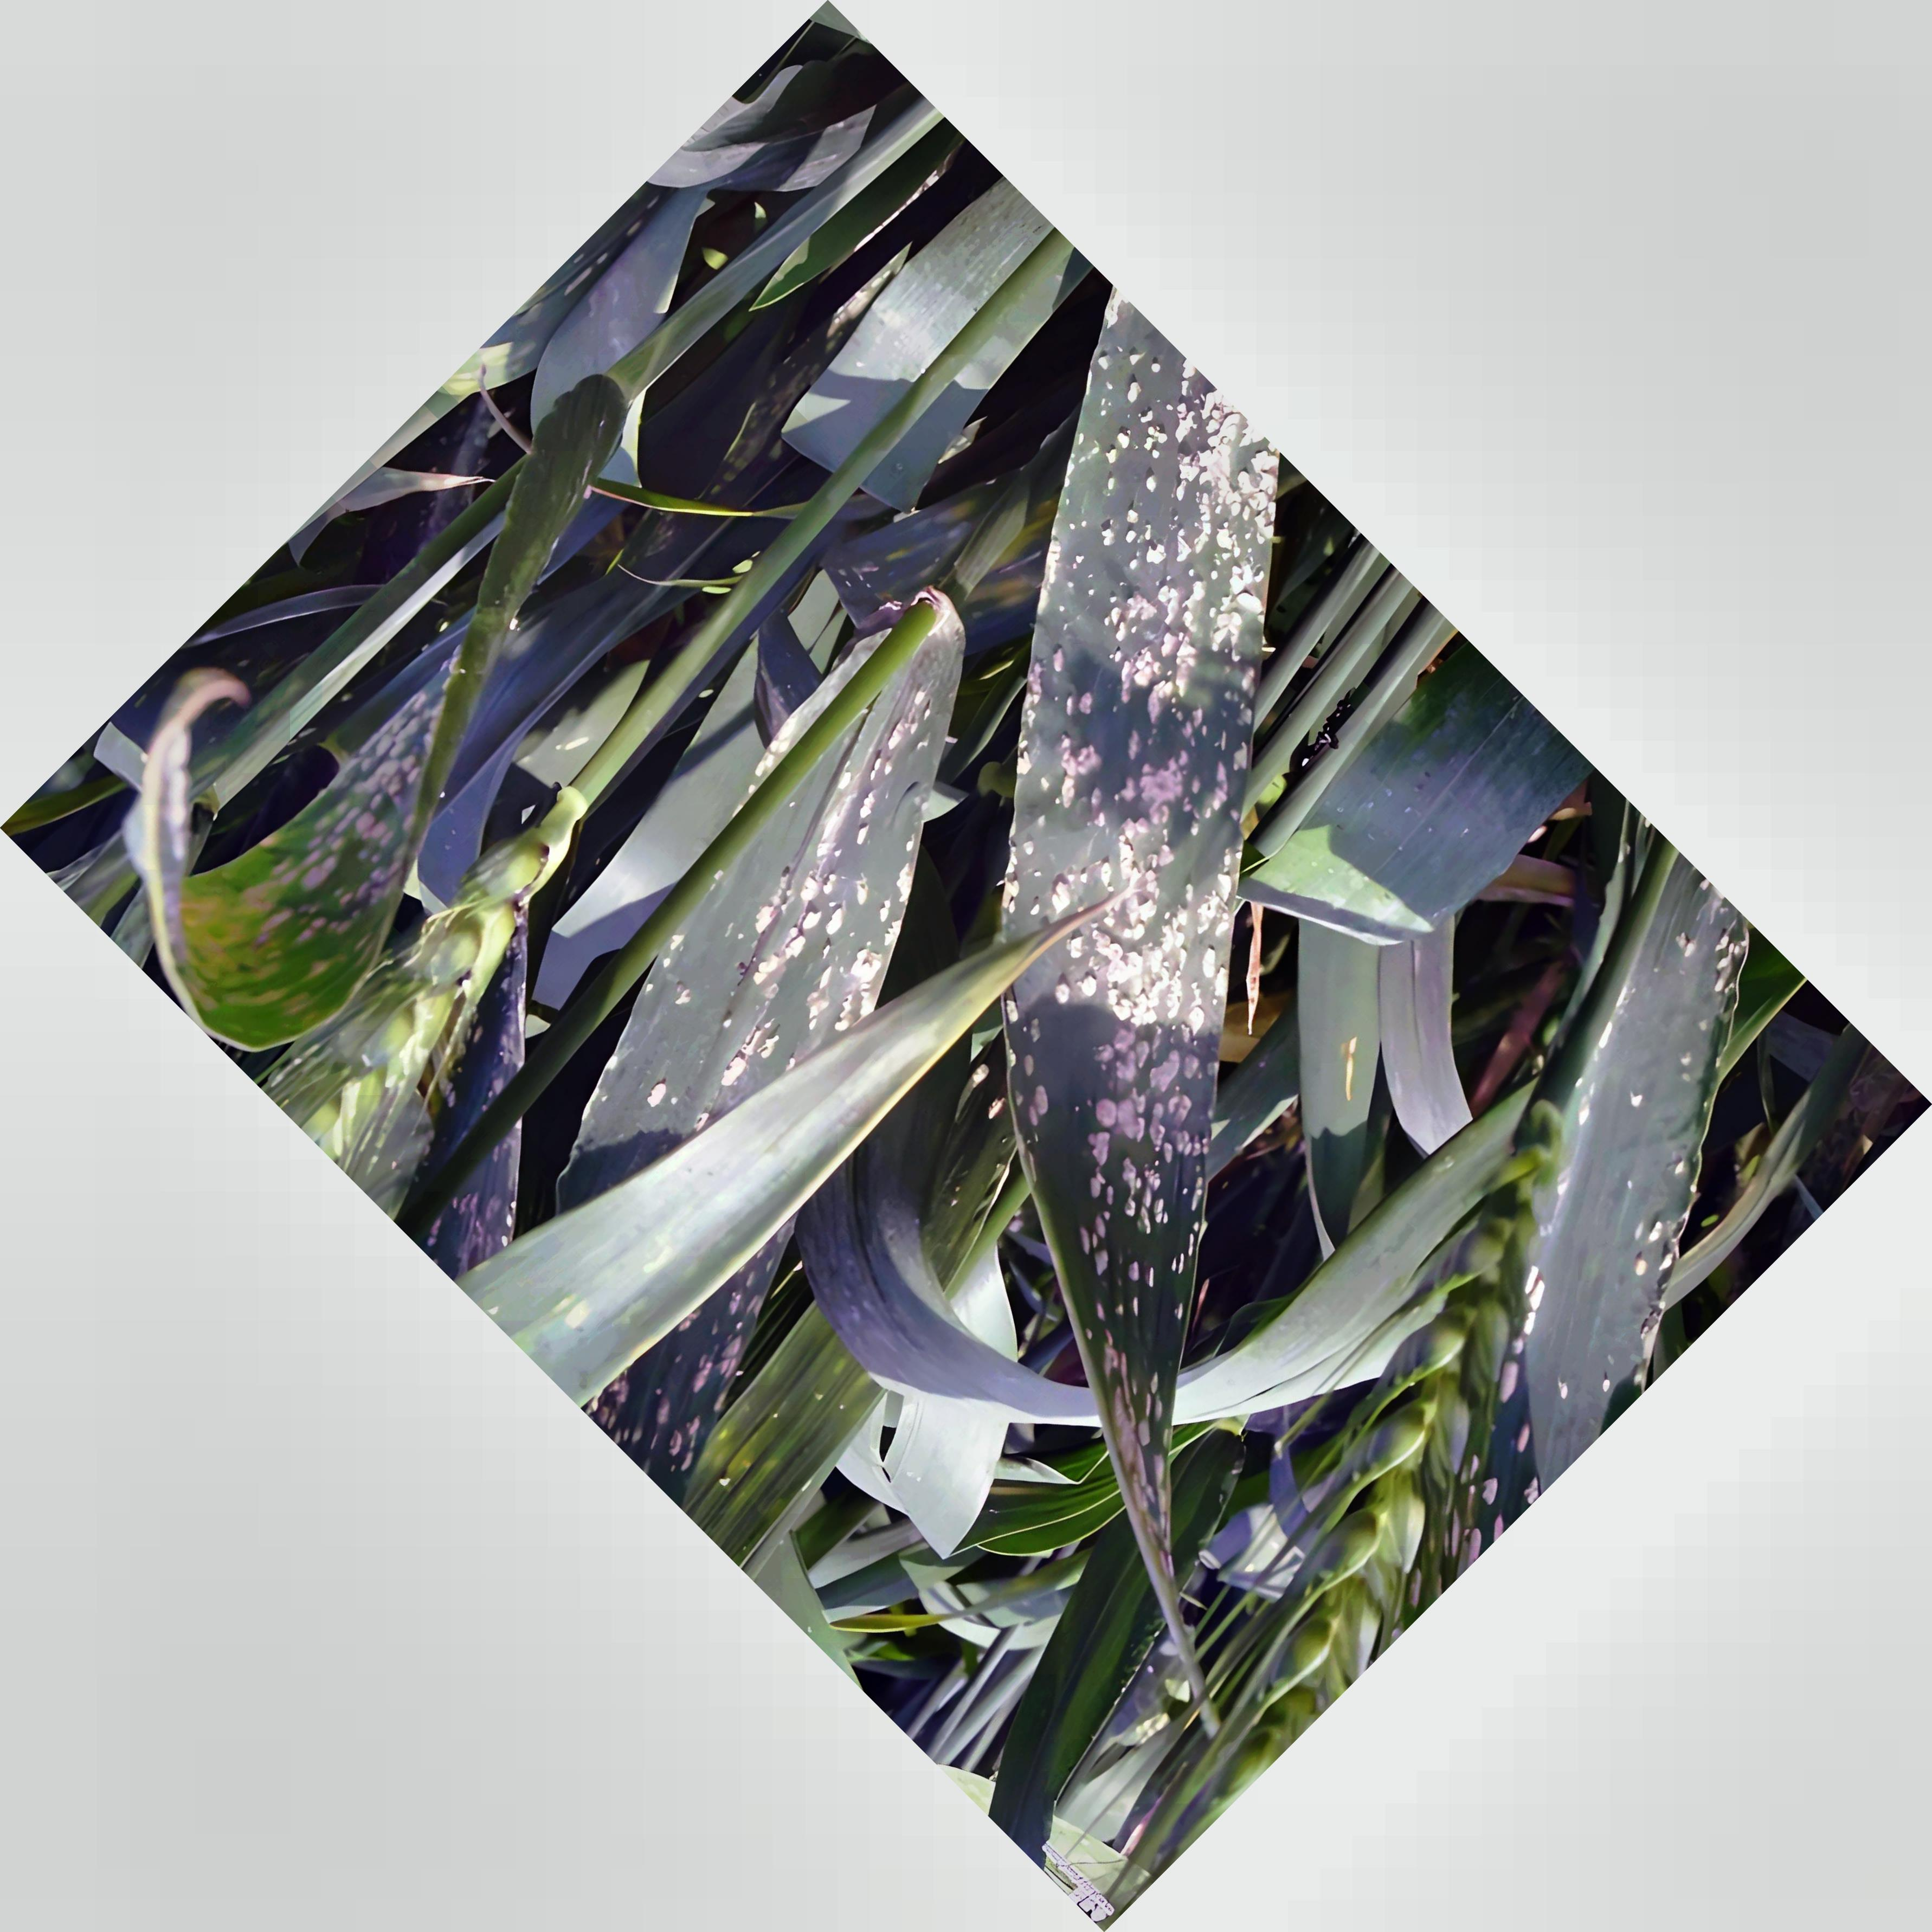Powdery Mildew: (1016, 352, 1279, 1318), (644, 658, 955, 1123)
